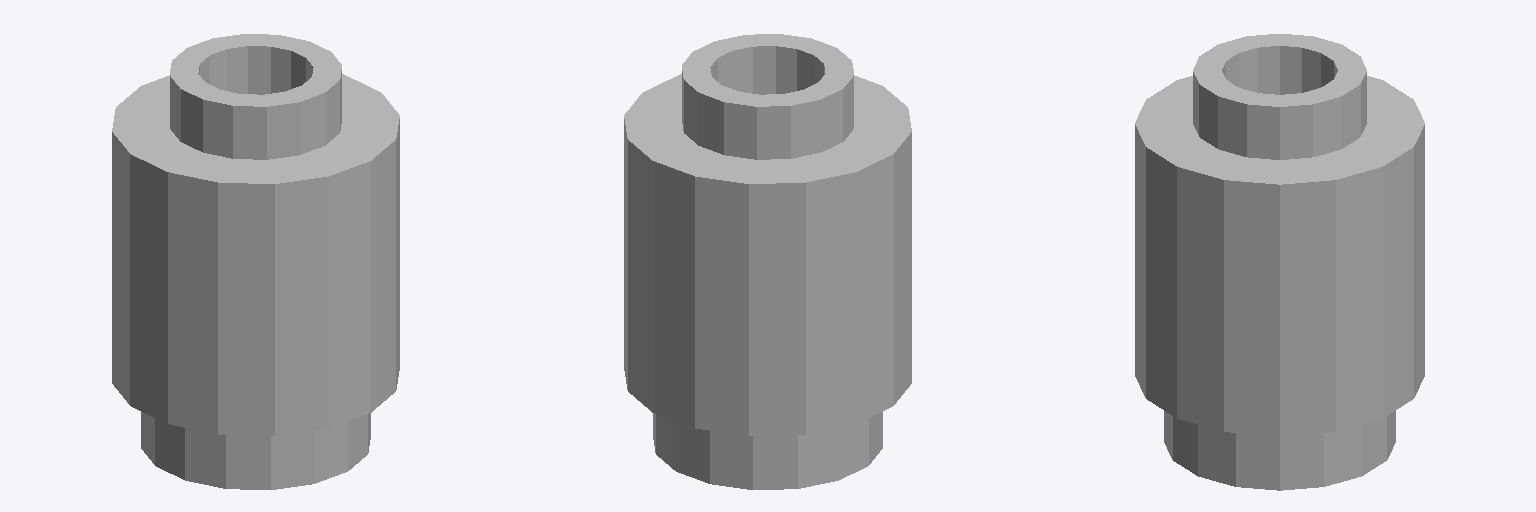
The model's file is Round_1x1.obj.
The picture shows the model from 3 angles: view 1: azimuth 30°, elevation 25°; view 2: azimuth 150°, elevation 25°; view 3: azimuth 270°, elevation 25°; orthographic projection.
Visible parts, largest first — view 1: 4-4cyli_1.4-4cyli_1n_4-4cyli_1.001, 4-4cyli_8.4-4cyli_8n_4-4cyli_8.001, 4-4cyli_5.4-4cyli_5n_4-4cyli_5.001, 4-4ring4_1.4-4ring4_1n_4-4ring4_1, 4-4ring2_1.4-4ring2_1n_4-4ring2_1, 4-4ring3_1.4-4ring3_1n_4-4ring3_1, 4-4cyli_4.4-4cyli_4n_4-4cyli_4.001; view 2: 4-4cyli_1.4-4cyli_1n_4-4cyli_1.001, 4-4cyli_8.4-4cyli_8n_4-4cyli_8.001, 4-4cyli_5.4-4cyli_5n_4-4cyli_5.001, 4-4ring4_1.4-4ring4_1n_4-4ring4_1, 4-4ring2_1.4-4ring2_1n_4-4ring2_1, 4-4ring3_1.4-4ring3_1n_4-4ring3_1, 4-4cyli_4.4-4cyli_4n_4-4cyli_4.001; view 3: 4-4cyli_1.4-4cyli_1n_4-4cyli_1.001, 4-4cyli_8.4-4cyli_8n_4-4cyli_8.001, 4-4cyli_5.4-4cyli_5n_4-4cyli_5.001, 4-4ring4_1.4-4ring4_1n_4-4ring4_1, 4-4ring2_1.4-4ring2_1n_4-4ring2_1, 4-4ring3_1.4-4ring3_1n_4-4ring3_1, 4-4cyli_4.4-4cyli_4n_4-4cyli_4.001.
Part boxes in pixels (x1,y1,x2,y2): 4-4cyli_1.4-4cyli_1n_4-4cyli_1.001: (112, 119, 399, 435); 4-4cyli_8.4-4cyli_8n_4-4cyli_8.001: (141, 411, 370, 489); 4-4cyli_5.4-4cyli_5n_4-4cyli_5.001: (170, 71, 341, 159); 4-4ring4_1.4-4ring4_1n_4-4ring4_1: (112, 74, 399, 183); 4-4ring2_1.4-4ring2_1n_4-4ring2_1: (170, 34, 341, 106); 4-4ring3_1.4-4ring3_1n_4-4ring3_1: (141, 91, 370, 171); 4-4cyli_4.4-4cyli_4n_4-4cyli_4.001: (198, 46, 313, 94); 4-4cyli_1.4-4cyli_1n_4-4cyli_1.001: (624, 119, 911, 435); 4-4cyli_8.4-4cyli_8n_4-4cyli_8.001: (653, 411, 882, 489); 4-4cyli_5.4-4cyli_5n_4-4cyli_5.001: (682, 71, 853, 159); 4-4ring4_1.4-4ring4_1n_4-4ring4_1: (624, 74, 911, 183); 4-4ring2_1.4-4ring2_1n_4-4ring2_1: (682, 34, 853, 106); 4-4ring3_1.4-4ring3_1n_4-4ring3_1: (653, 91, 882, 171); 4-4cyli_4.4-4cyli_4n_4-4cyli_4.001: (710, 46, 825, 94); 4-4cyli_1.4-4cyli_1n_4-4cyli_1.001: (1135, 125, 1424, 436); 4-4cyli_8.4-4cyli_8n_4-4cyli_8.001: (1164, 411, 1395, 490); 4-4cyli_5.4-4cyli_5n_4-4cyli_5.001: (1193, 72, 1366, 159); 4-4ring4_1.4-4ring4_1n_4-4ring4_1: (1135, 76, 1424, 184); 4-4ring2_1.4-4ring2_1n_4-4ring2_1: (1193, 34, 1366, 106); 4-4ring3_1.4-4ring3_1n_4-4ring3_1: (1164, 92, 1395, 171); 4-4cyli_4.4-4cyli_4n_4-4cyli_4.001: (1222, 46, 1337, 94).
Bounding box in the file's own units: 1.95 × 2.75 × 1.95.